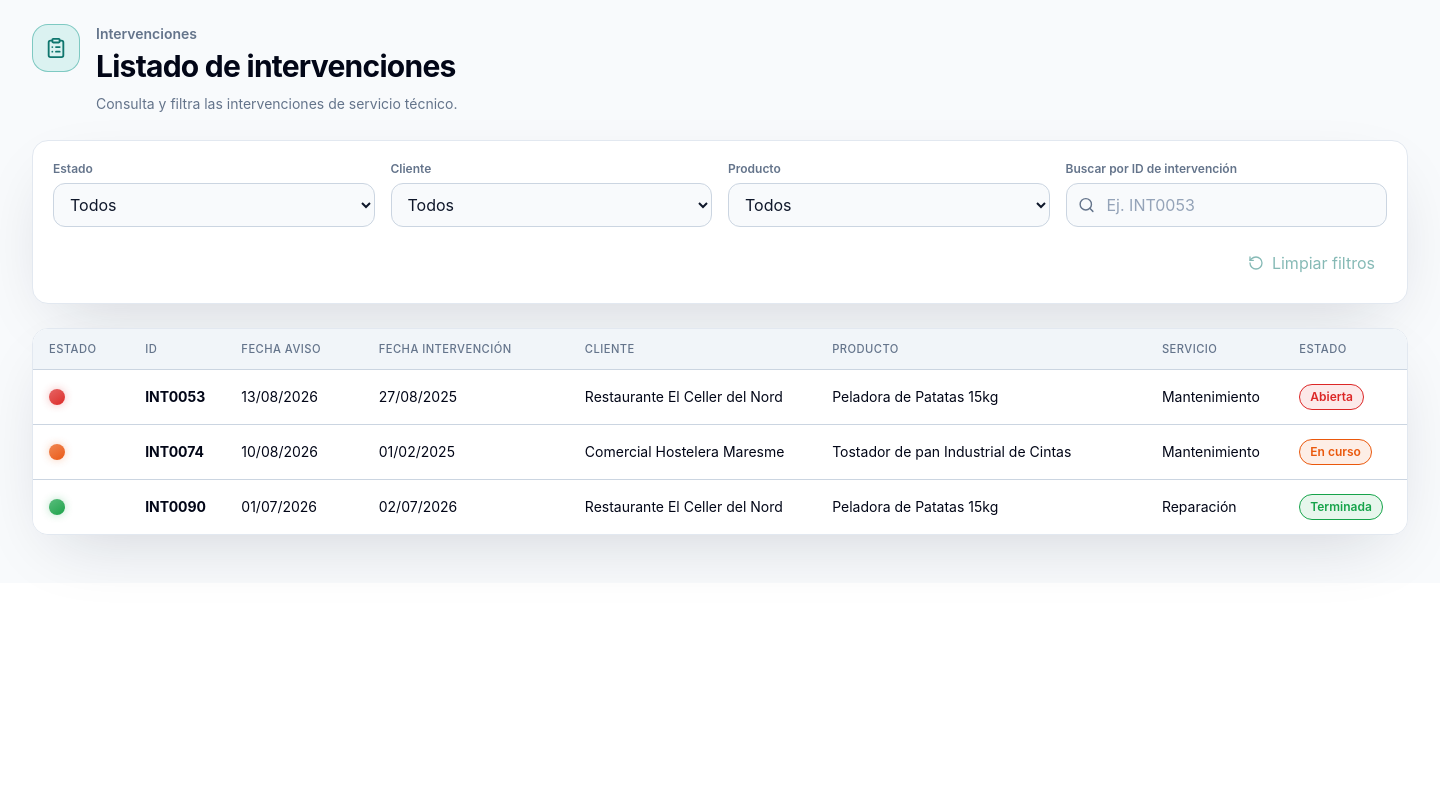
Test: Intervenciones › combines status, customer, product and partial case-insensitive ID filters
expect the heading "Listado de intervenciones" is shown: met, box x1=96 y1=48 x2=458 y2=84
Select "Abierta" in the dropdown labelled "Estado" at (214, 205), box x1=53 y1=183 x2=374 y2=227
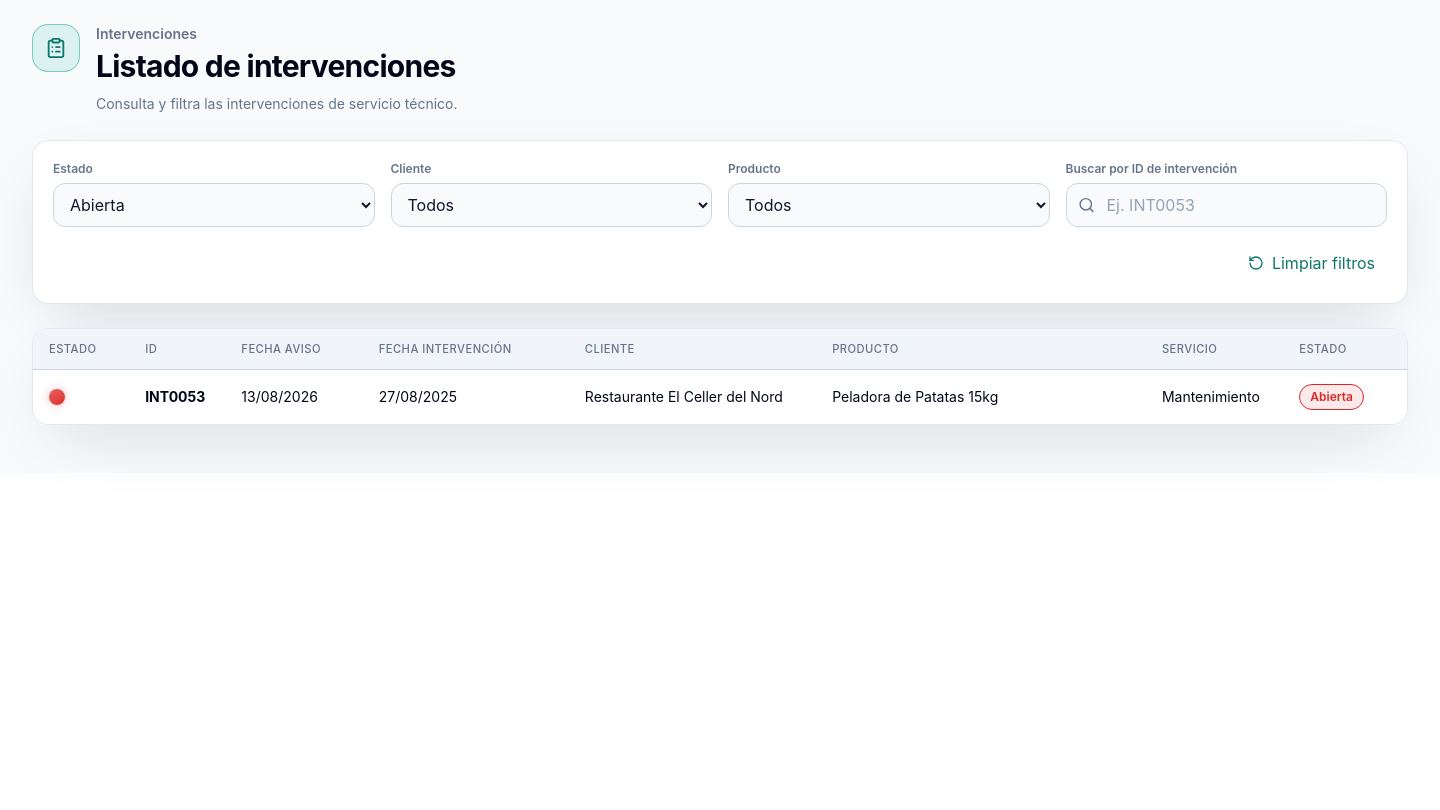
Select "Restaurante El Celler del Nord" in the dropdown labelled "Cliente" at (551, 205), box x1=390 y1=183 x2=712 y2=227
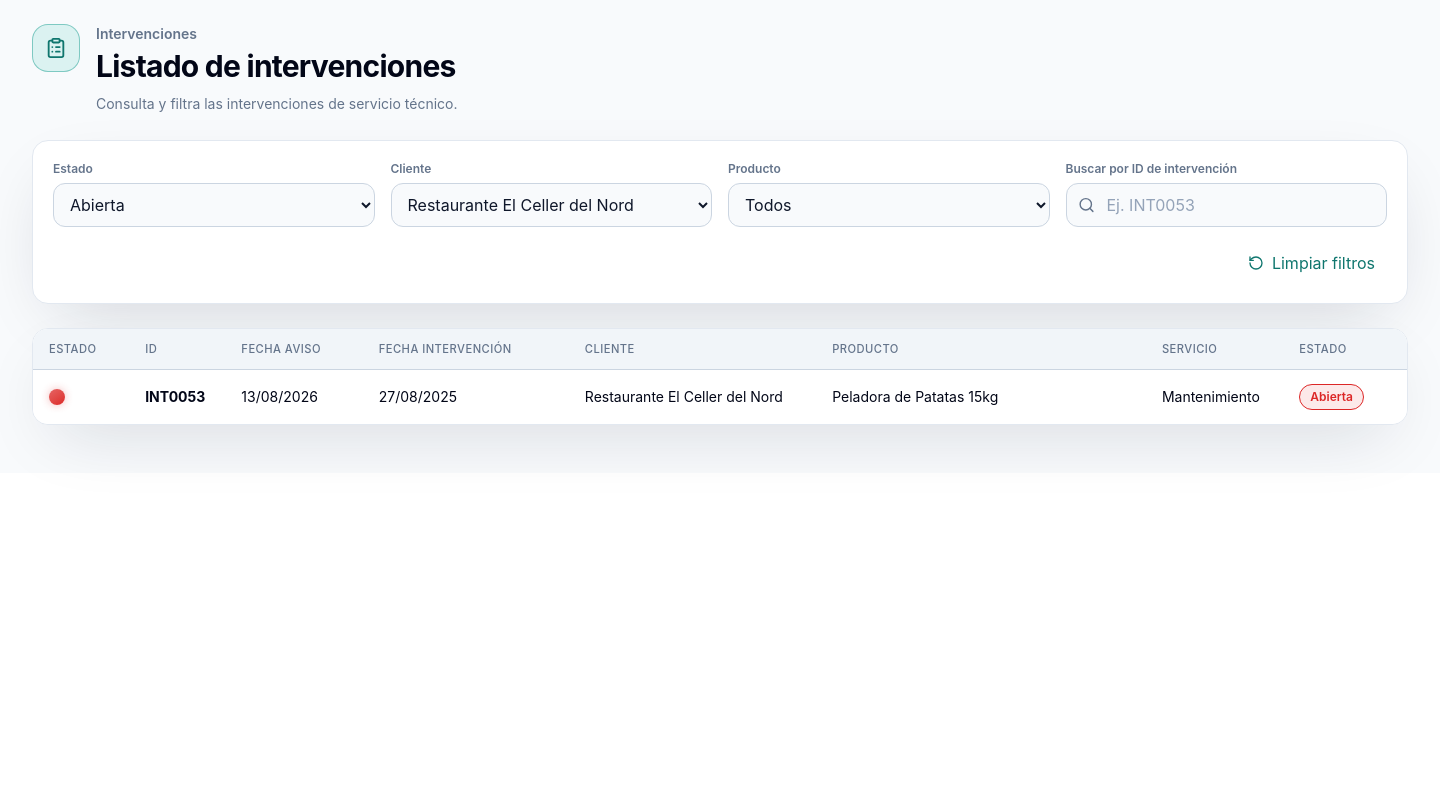
Select "Peladora de Patatas 15kg" in the dropdown labelled "Producto" at (889, 205), box x1=728 y1=183 x2=1050 y2=227
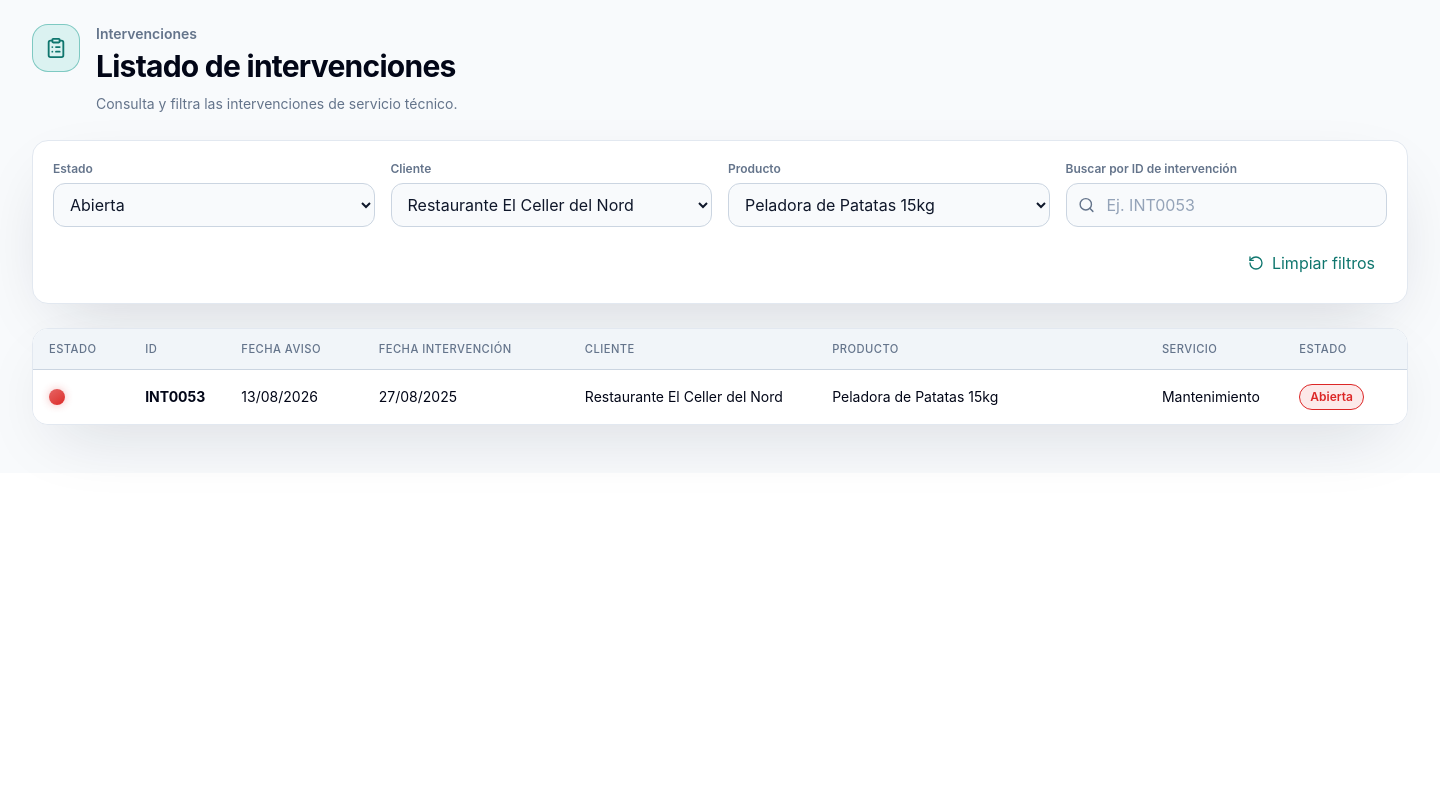
Type "t005" into the search field labelled "Buscar por ID de intervención".
click(1226, 205); type("t005")  # box x1=1066 y1=183 x2=1387 y2=227
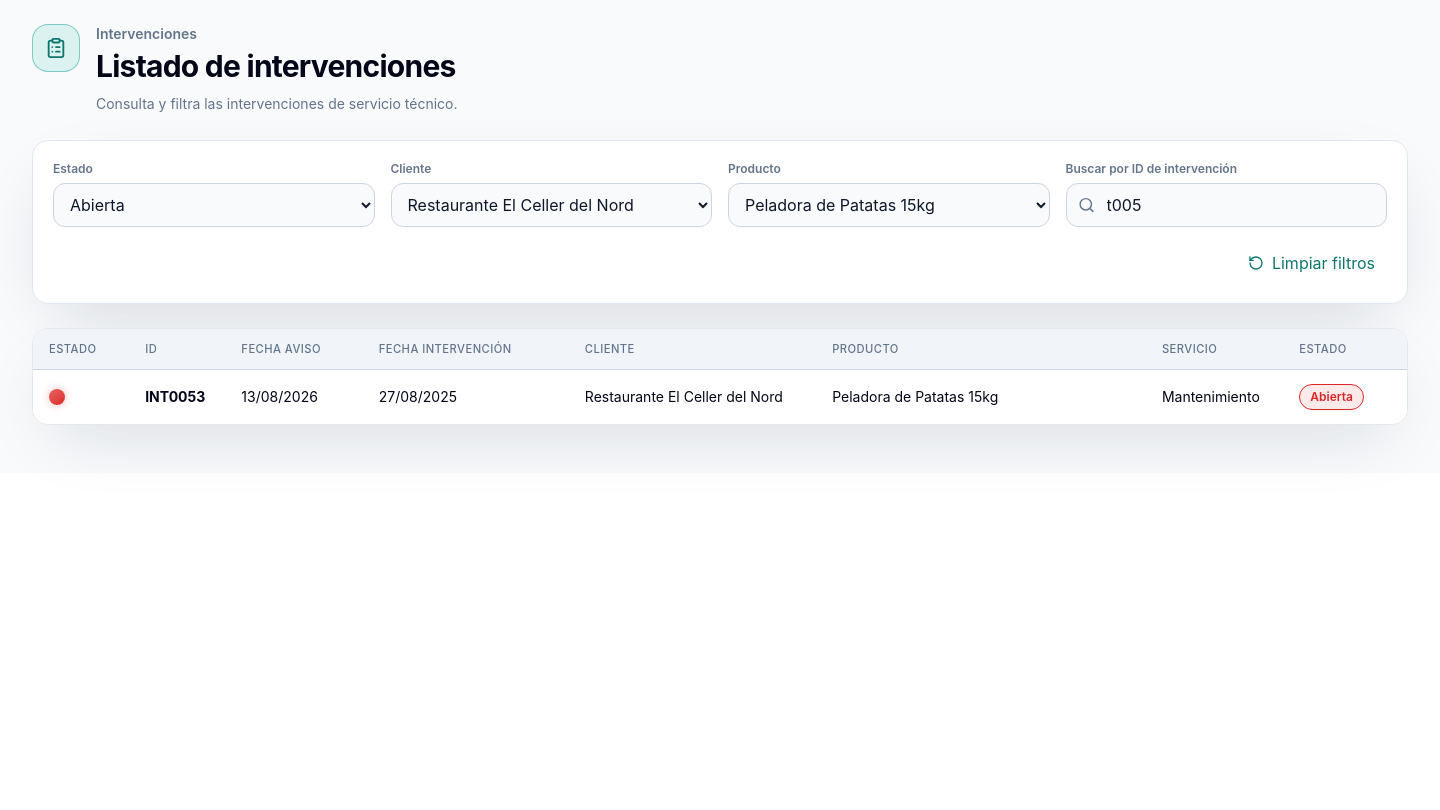
expect the text "INT0053" is shown: met, box x1=129 y1=370 x2=225 y2=424
expect the text "INT0074" is not shown: met
Click the button "Limpiar filtros".
click(1311, 263)  # box x1=1236 y1=243 x2=1387 y2=283
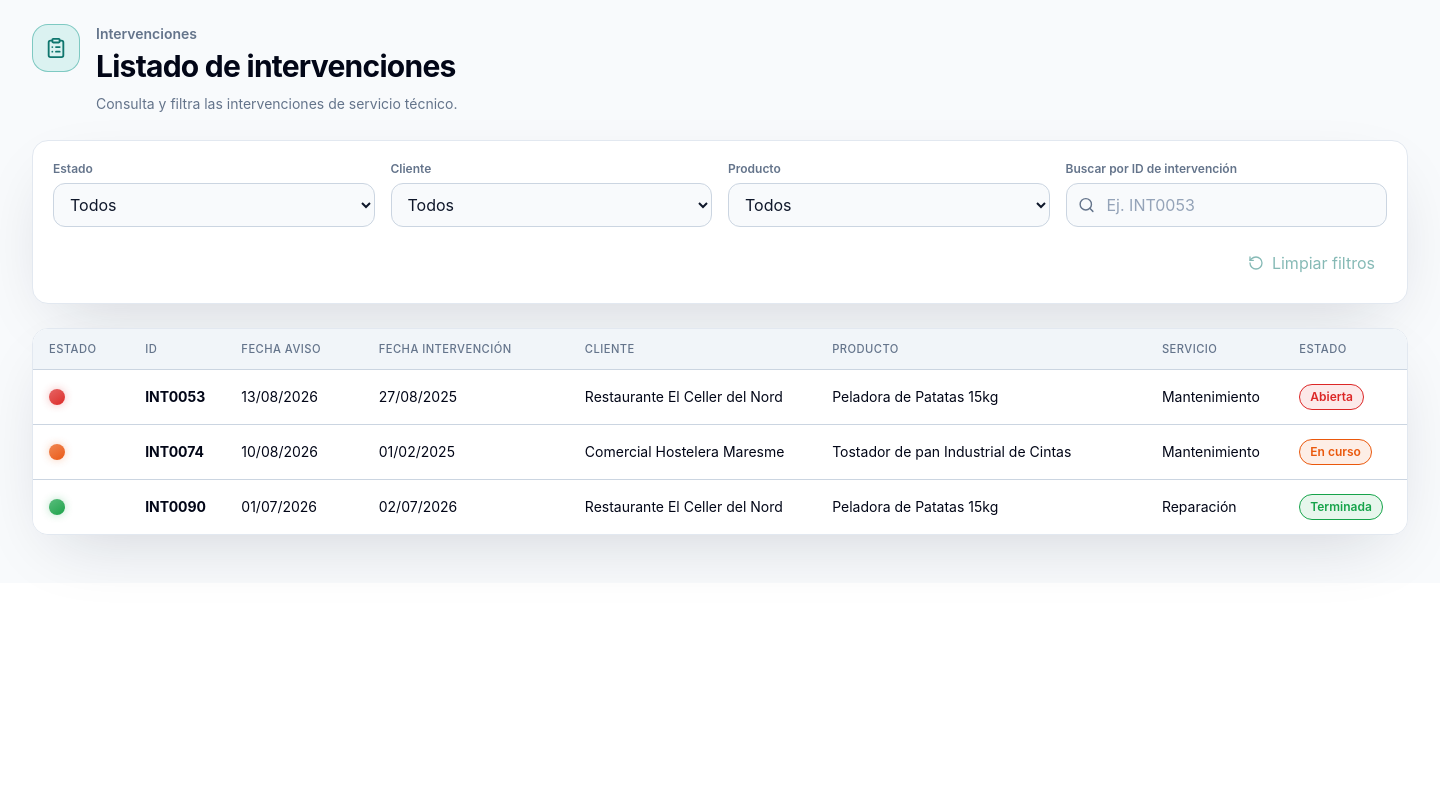
expect the text "INT0074" is shown: met, box x1=129 y1=424 x2=225 y2=480
